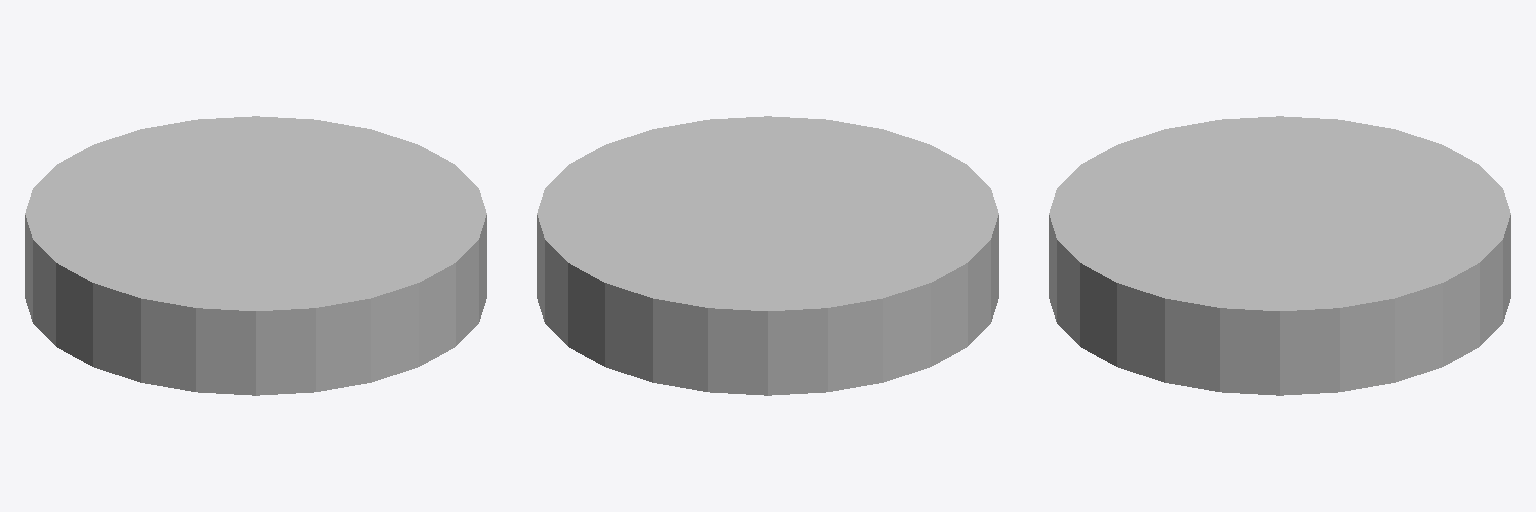
File: random_pillars.obj
The picture shows the model from 3 angles: view 1: azimuth 30°, elevation 25°; view 2: azimuth 150°, elevation 25°; view 3: azimuth 270°, elevation 25°; orthographic projection.
Visible parts, largest first — view 1: Mesh1 Model; view 2: Mesh1 Model; view 3: Mesh1 Model.
Part boxes in pixels (x1,y1,x2,y2): Mesh1 Model: (25, 116, 486, 395); Mesh1 Model: (537, 116, 998, 395); Mesh1 Model: (1049, 116, 1510, 395).
Bounding box in the file's own units: 49.66 × 10 × 49.66.